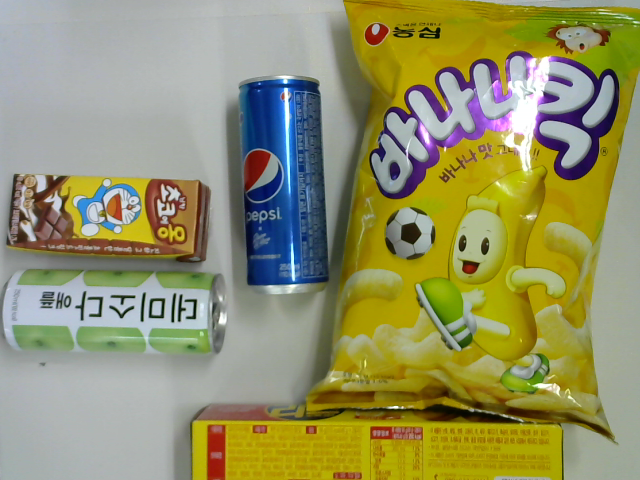Banana_Kick: (304, 1, 640, 449)
Choco_E_Mong: (4, 172, 213, 262)
Demisoda_Apple_Can_250ml: (2, 266, 231, 356)
Pepsi_Cola_Can_250ml: (238, 73, 331, 295)
Ritz_Remon_96g: (187, 401, 566, 474)
